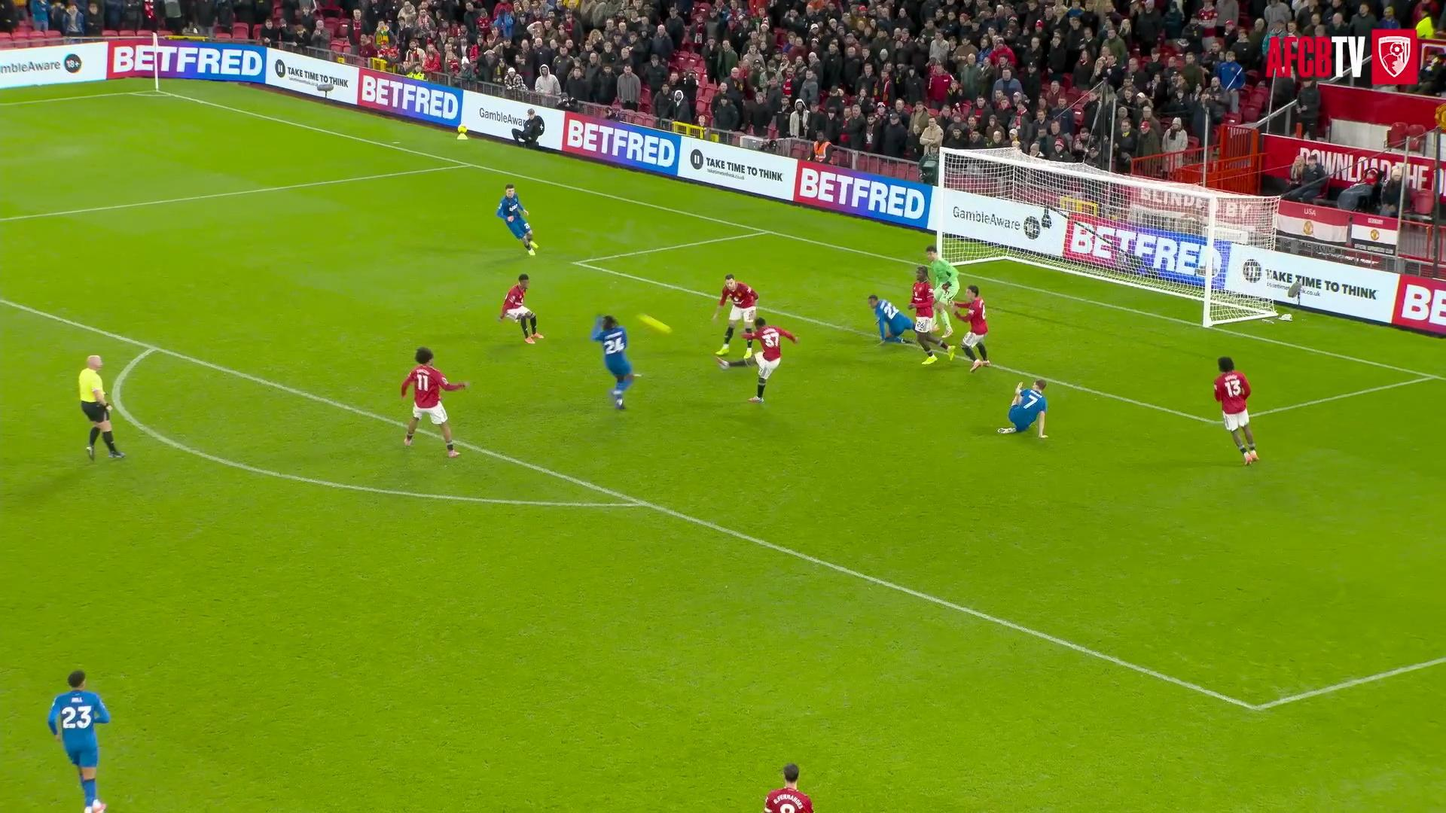football: (634, 311, 674, 337)
player: (48, 670, 109, 812), (401, 347, 467, 457), (717, 318, 797, 403), (1214, 357, 1258, 464), (712, 274, 761, 359), (591, 315, 633, 409), (910, 266, 947, 364), (498, 273, 543, 343), (954, 285, 990, 371), (926, 245, 958, 339), (998, 379, 1047, 438), (496, 184, 536, 255), (764, 763, 812, 812), (868, 294, 912, 343)
referee: (78, 355, 124, 459)
